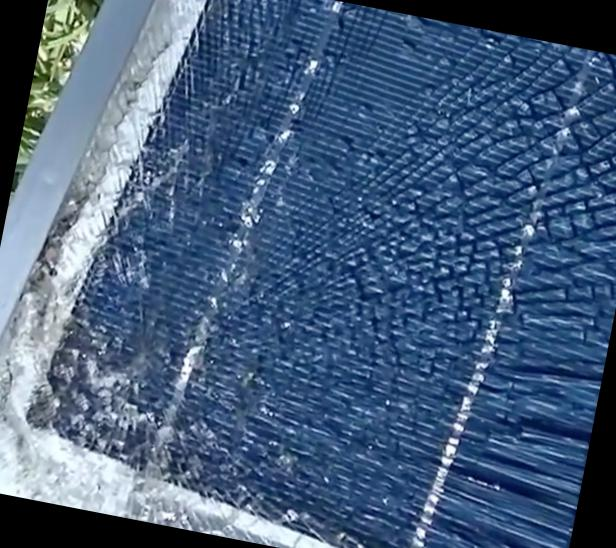Crack: (3, 143, 366, 541)
